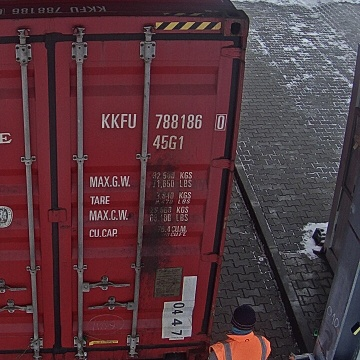serial_id: (101, 114, 224, 129)
